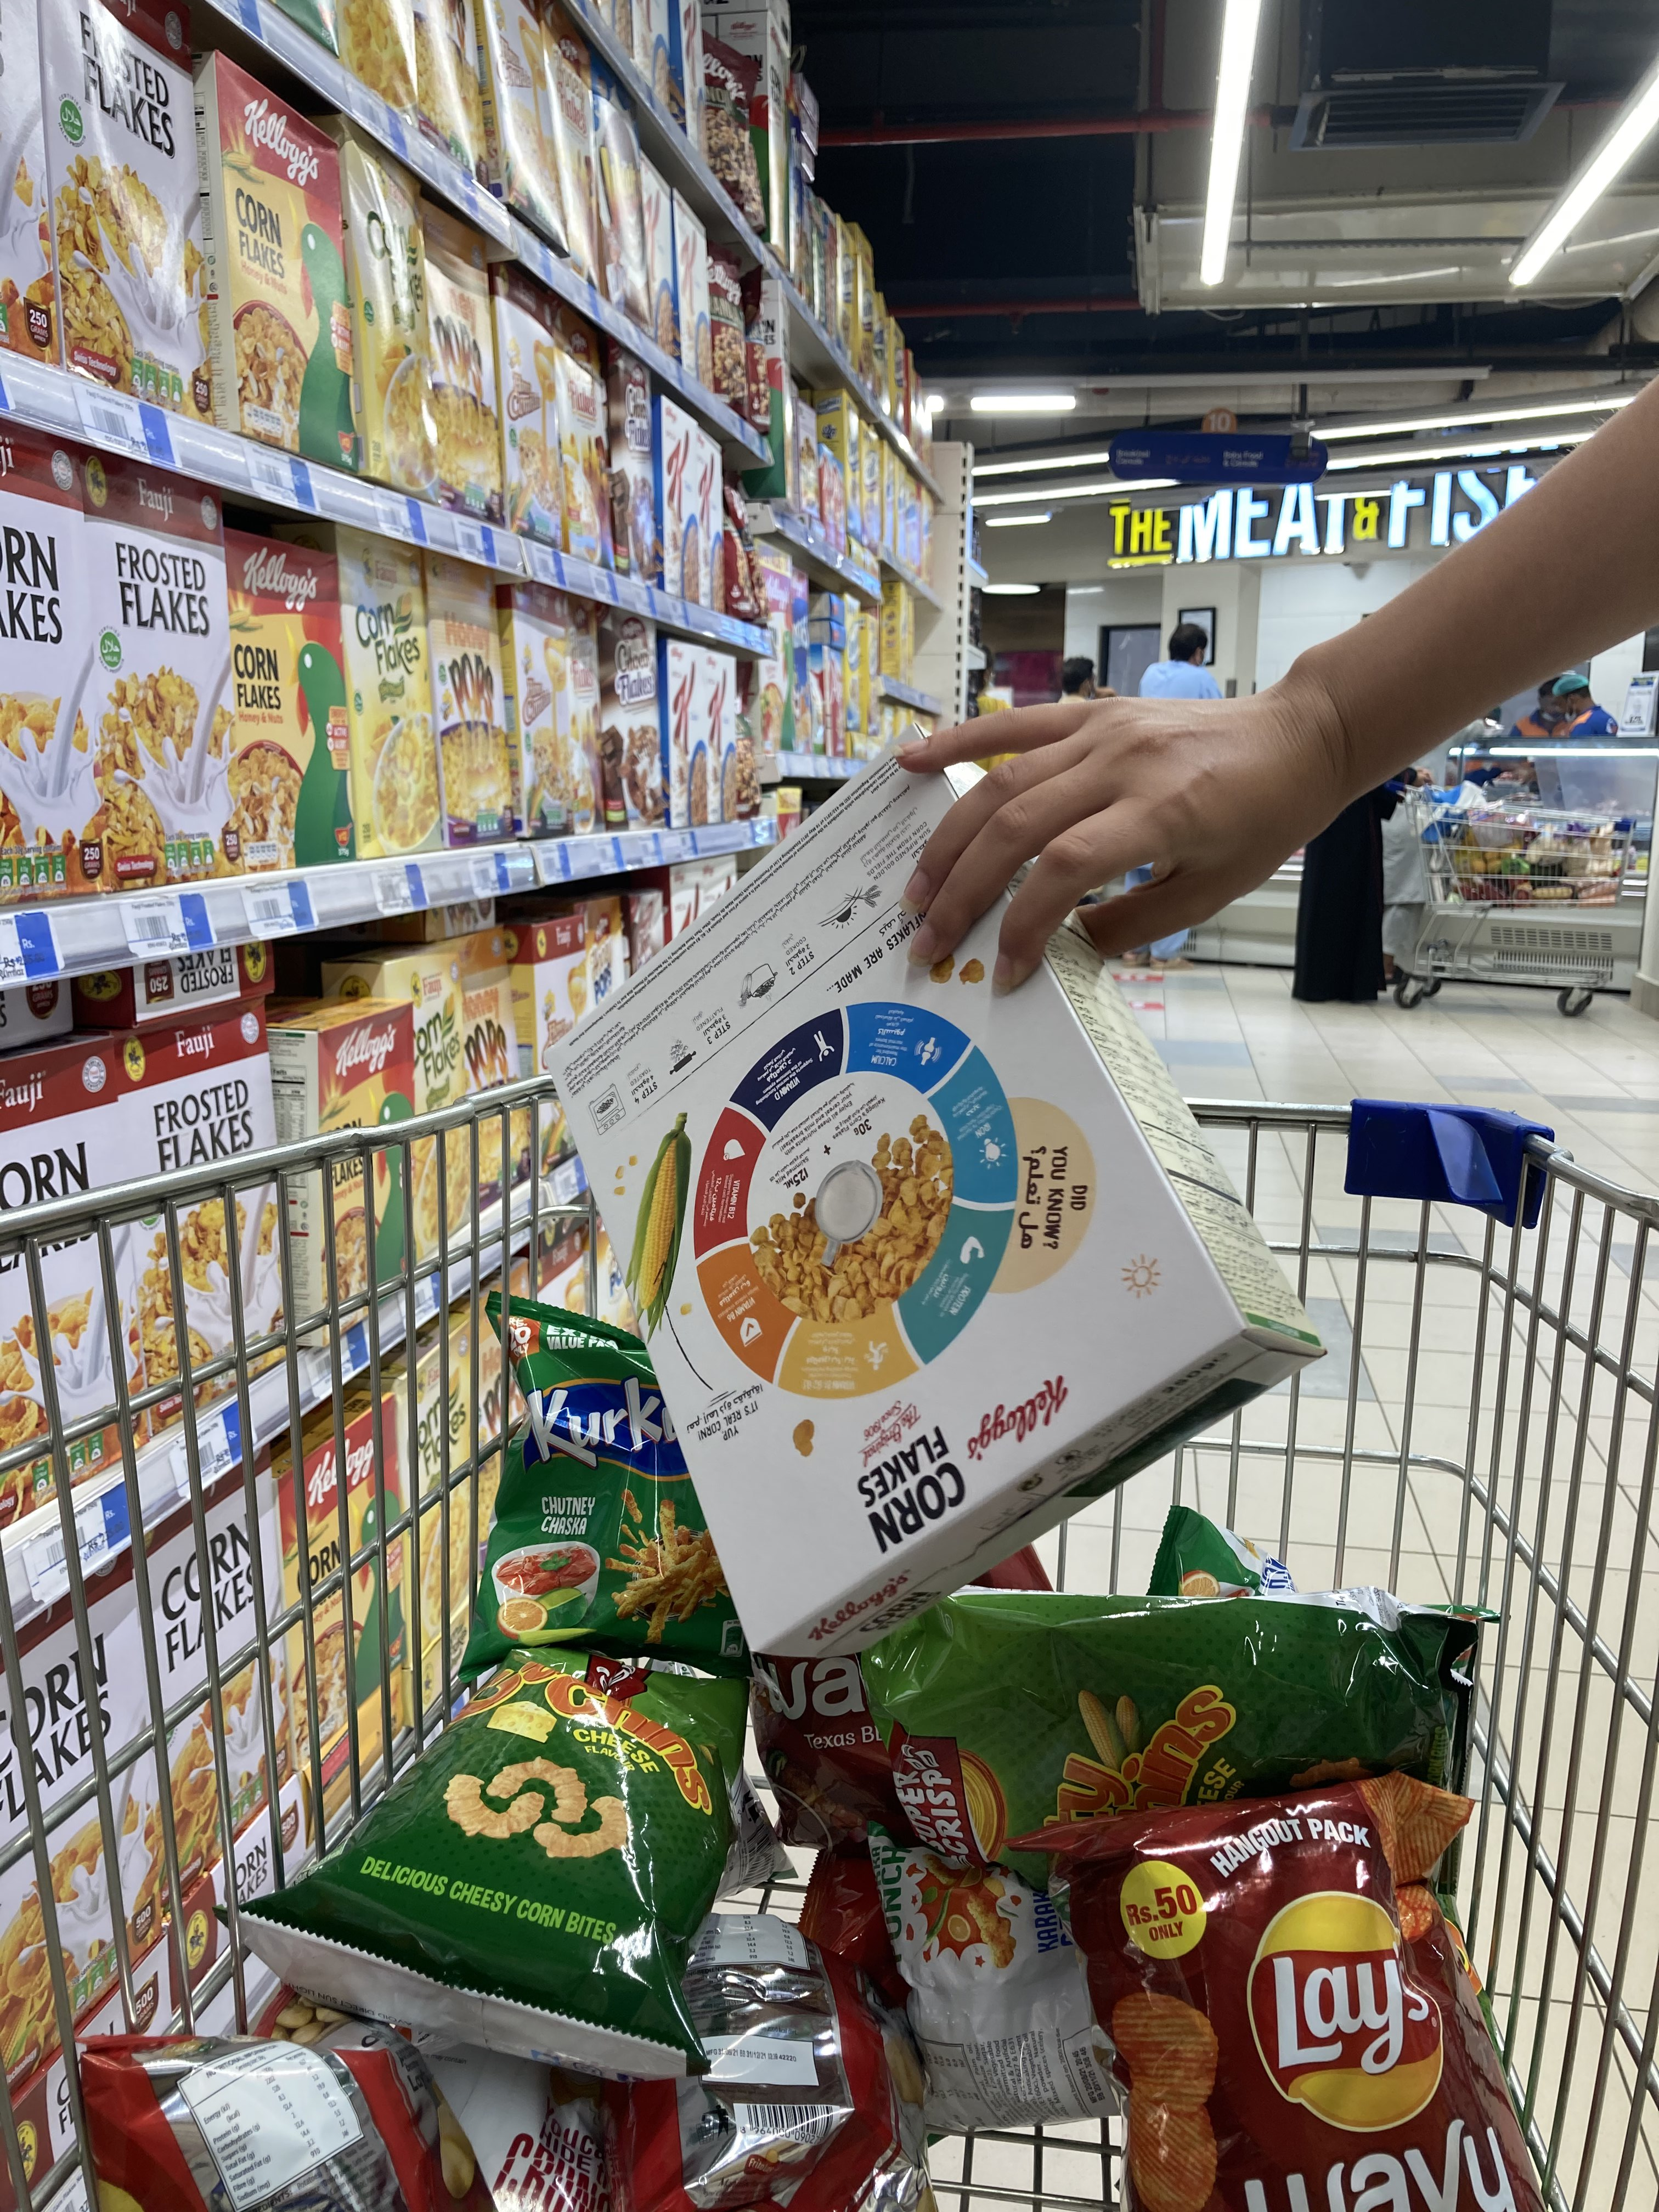Kellogg's Corn Flakes: (533, 735, 1321, 1662)
